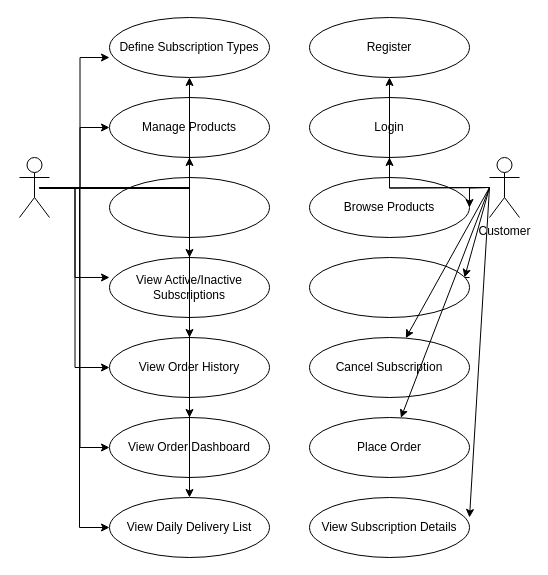
The diagram is 548 pixels wide and 575 high, and some of its shapes have lost their labels. Each missing label, with the box of its shape:
Admin: (18, 156, 50, 218)
Deactivate/Activate Subscriptions: (108, 176, 270, 238)
Subscribe to Products: (308, 256, 470, 318)
